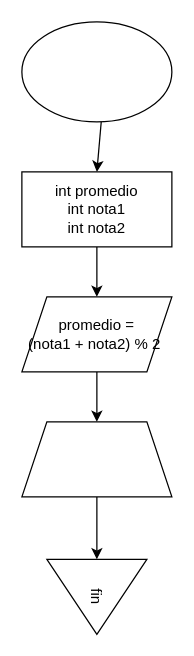
Image size: 194x656. Some labels were removed from this diagram. The shapes that lost their labels are listed below. From the top down, each one's box as (x1, y1, x2, y2) in pixels, then its label:
(21, 21, 172, 122): Promedio de notas
(21, 421, 172, 497): El resultado es "promedio"
